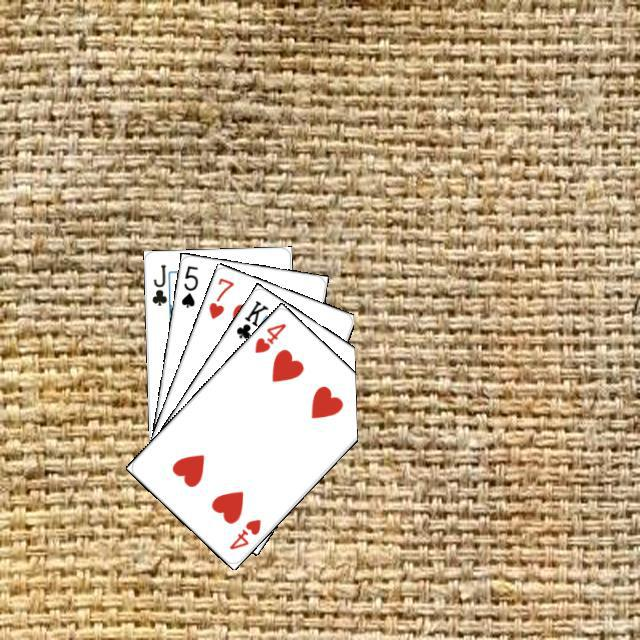4h: (224, 514, 263, 551), (250, 318, 288, 355)
5s: (176, 261, 200, 310)
7h: (204, 273, 236, 321)
Jc: (147, 259, 169, 307)
Kc: (231, 295, 270, 349)
